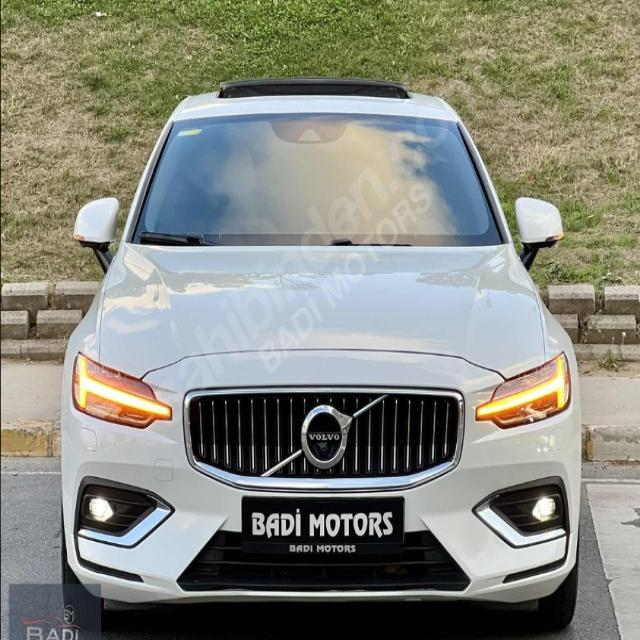volvo: (297, 403, 353, 471)
